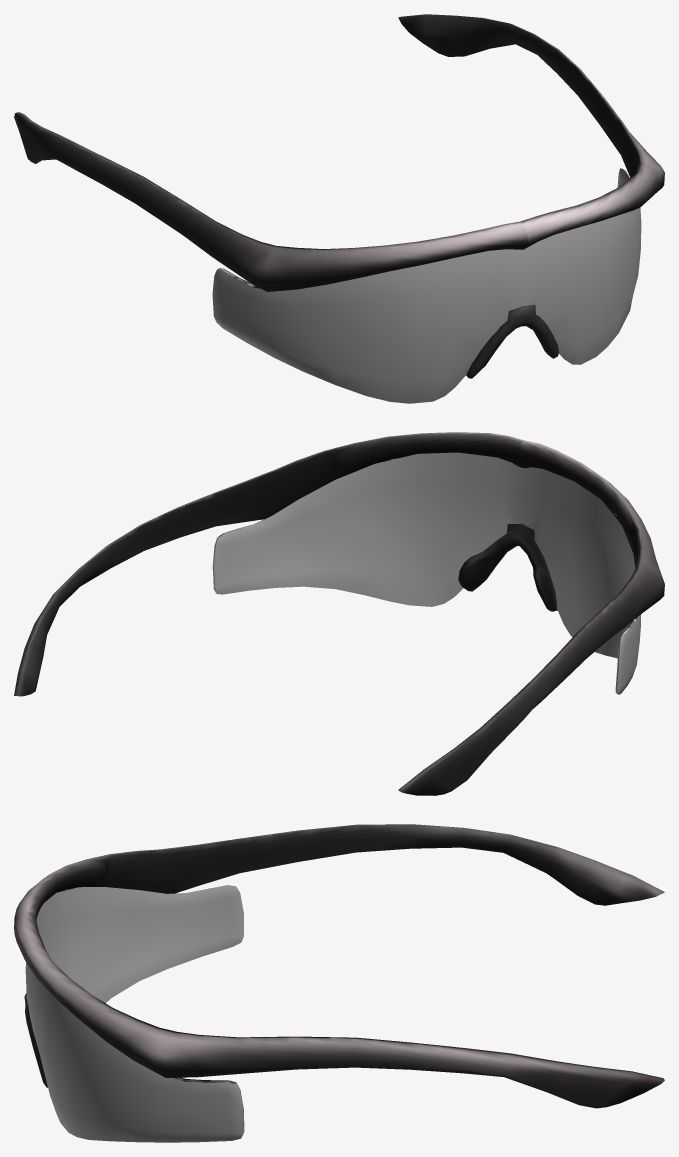
File: Glasses.fbx
The picture shows the model from 3 angles, top to bottom: view 1: azimuth 30°, elevation 25°; view 2: azimuth 150°, elevation 25°; view 3: azimuth 270°, elevation 25°; orthographic projection.
Parts seen in each view (by area): view 1: Glasses; view 2: Glasses; view 3: Glasses.
Boxes of the visible parts, box(x1,y1,x2,y2) form: Glasses: box(14, 14, 664, 403); Glasses: box(14, 432, 664, 795); Glasses: box(14, 824, 664, 1142).
Bounding box in the file's own units: 17.35 × 6.11 × 20.5.
2 materials, 1 textured.
